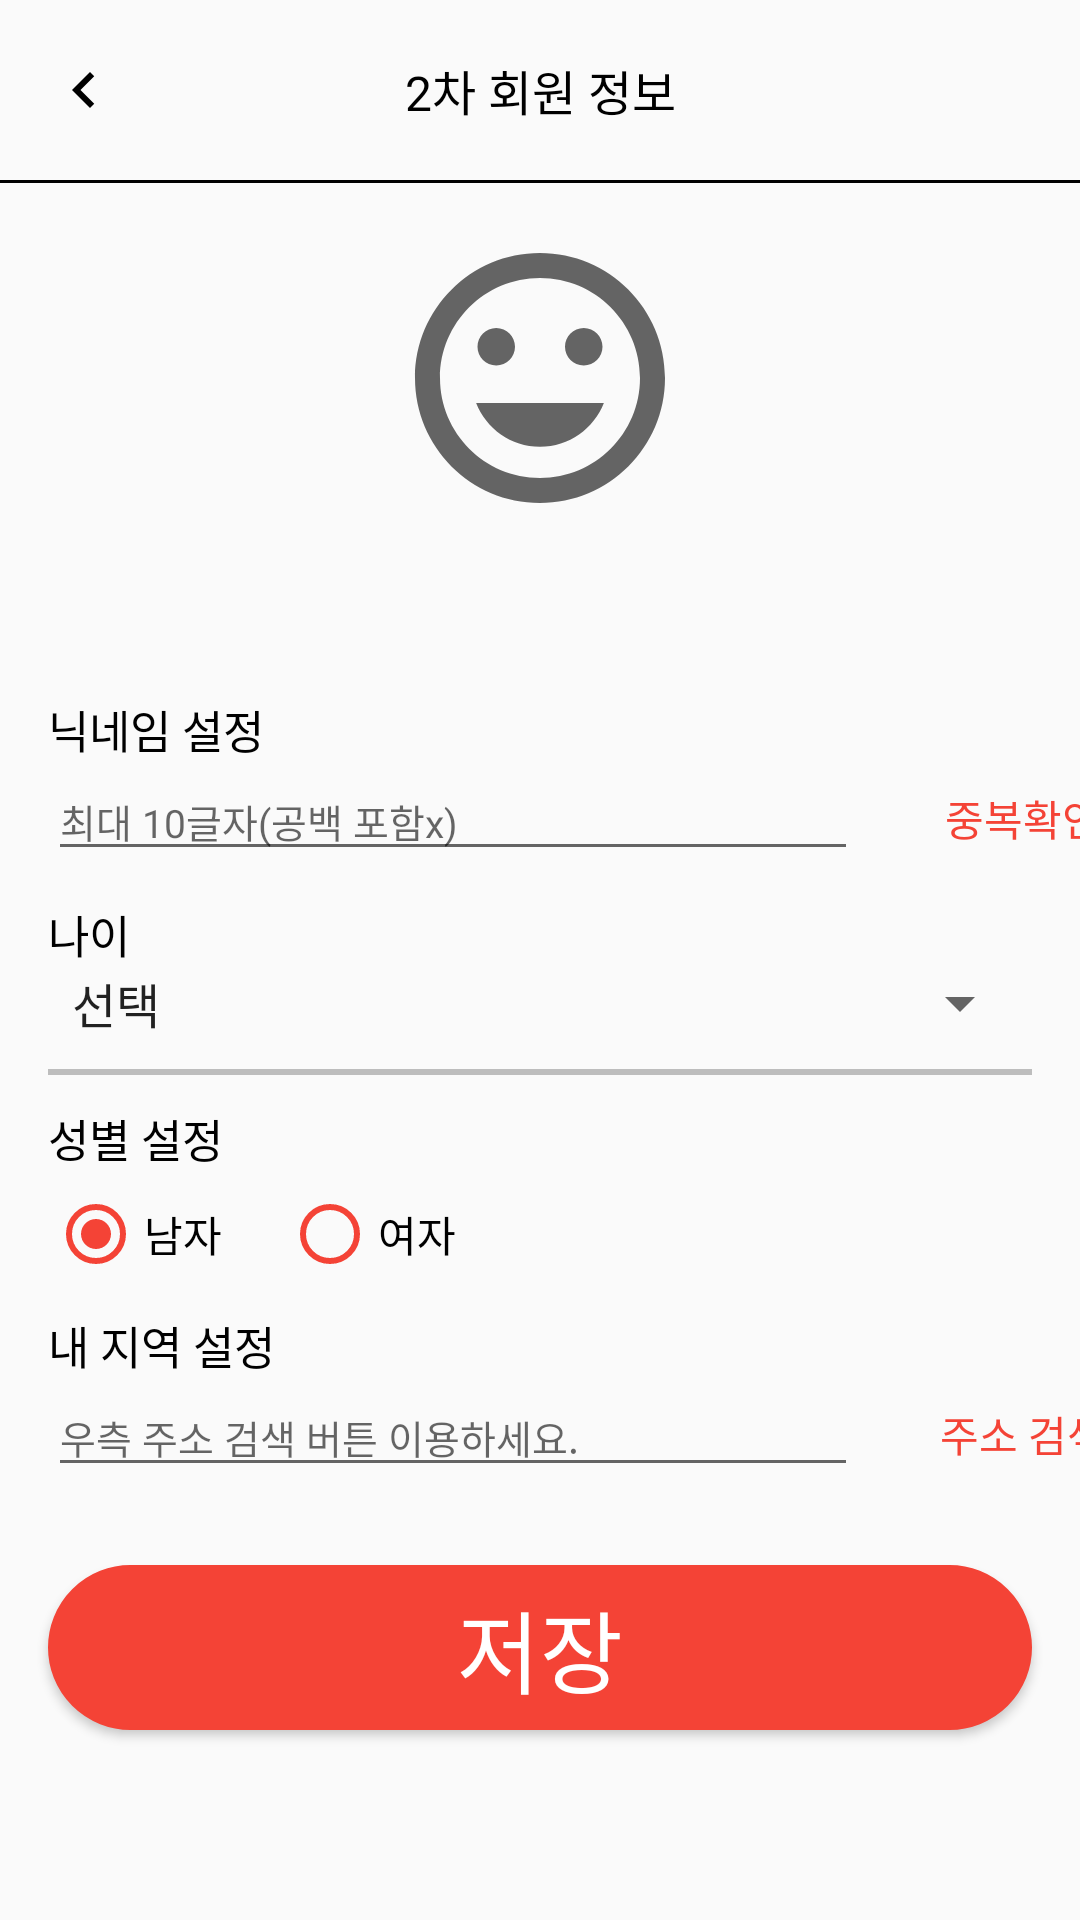

Icon bounding boxes for this 1080w x 1920h phone screenshot, format [x1,y1,x2,y2]:
left arrow: [72,72,94,108]
profile picture: [415,253,665,503]
